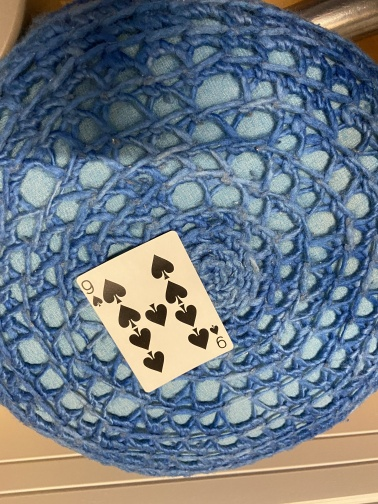nine: (75, 228, 234, 395)
